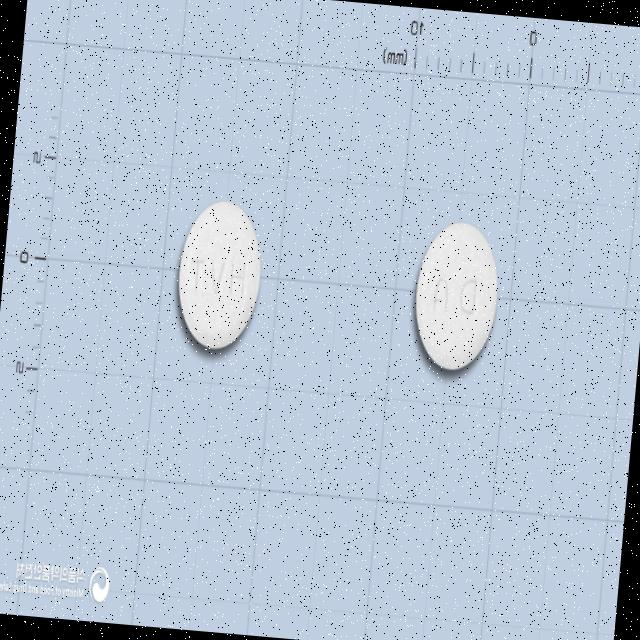Hepsevir: (408, 216, 504, 376), (172, 194, 267, 352)
